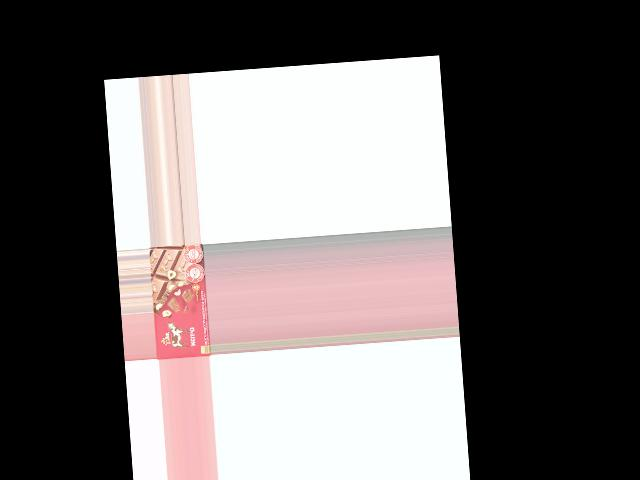chocolate: (149, 244, 209, 360)
